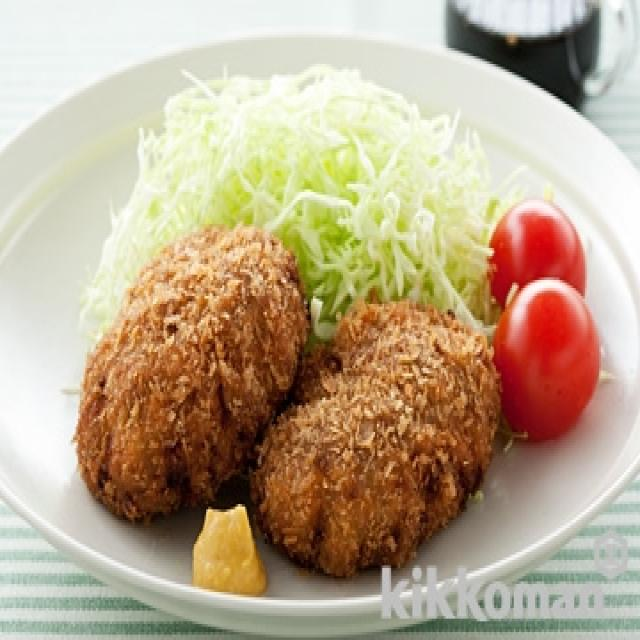炸货点心: (44, 43, 608, 608)
